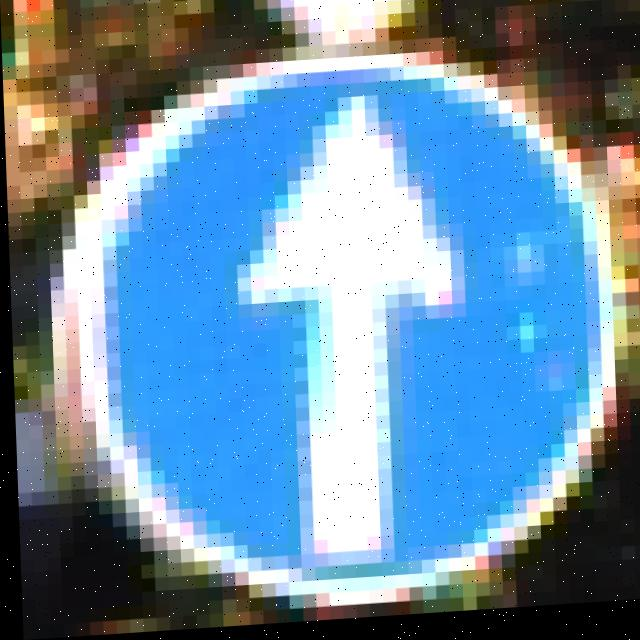compulsory_ahead: (60, 46, 627, 612)
